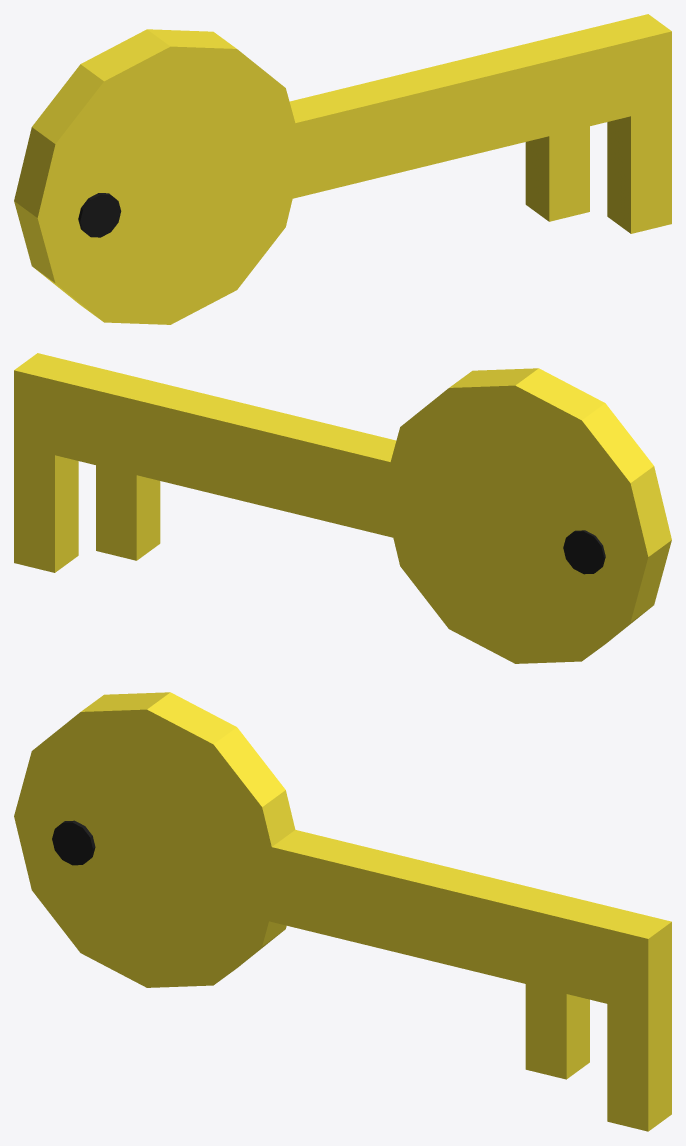
3 views of the same model, one above another, from view 1: azimuth 30°, elevation 25°; view 2: azimuth 150°, elevation 25°; view 3: azimuth 330°, elevation 25° (orthographic).
Visible parts, largest first — view 1: Node; view 2: Node; view 3: Node.
Part boxes in pixels (x1=…): Node: x1=14, y1=14, x2=671, y2=324; Node: x1=14, y1=353, x2=671, y2=663; Node: x1=14, y1=692, x2=671, y2=1131.
Bounding box in the file's own units: 0.62 × 0.28 × 0.0466.
